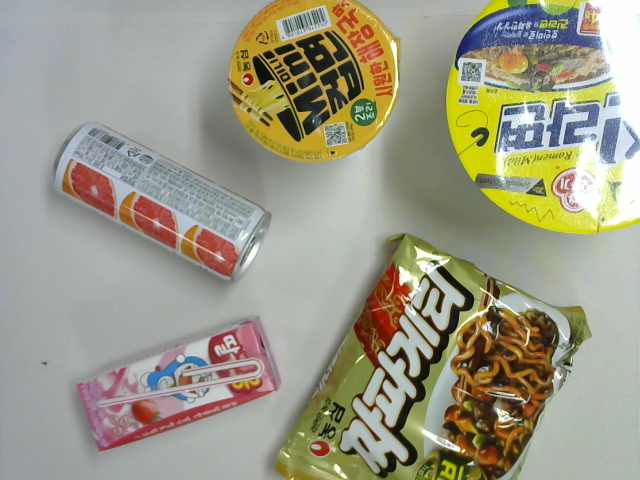Demisoda_Grapefruit_Can_250ml: (46, 117, 277, 283)
Hejangmini: (219, 1, 402, 170)
Jinlamyeon_Mild_Taste_Large_Cup: (441, 1, 639, 242)
Olive_Chapaghetti: (276, 231, 594, 480)
Strawberry_E_Mong: (76, 312, 284, 453)
